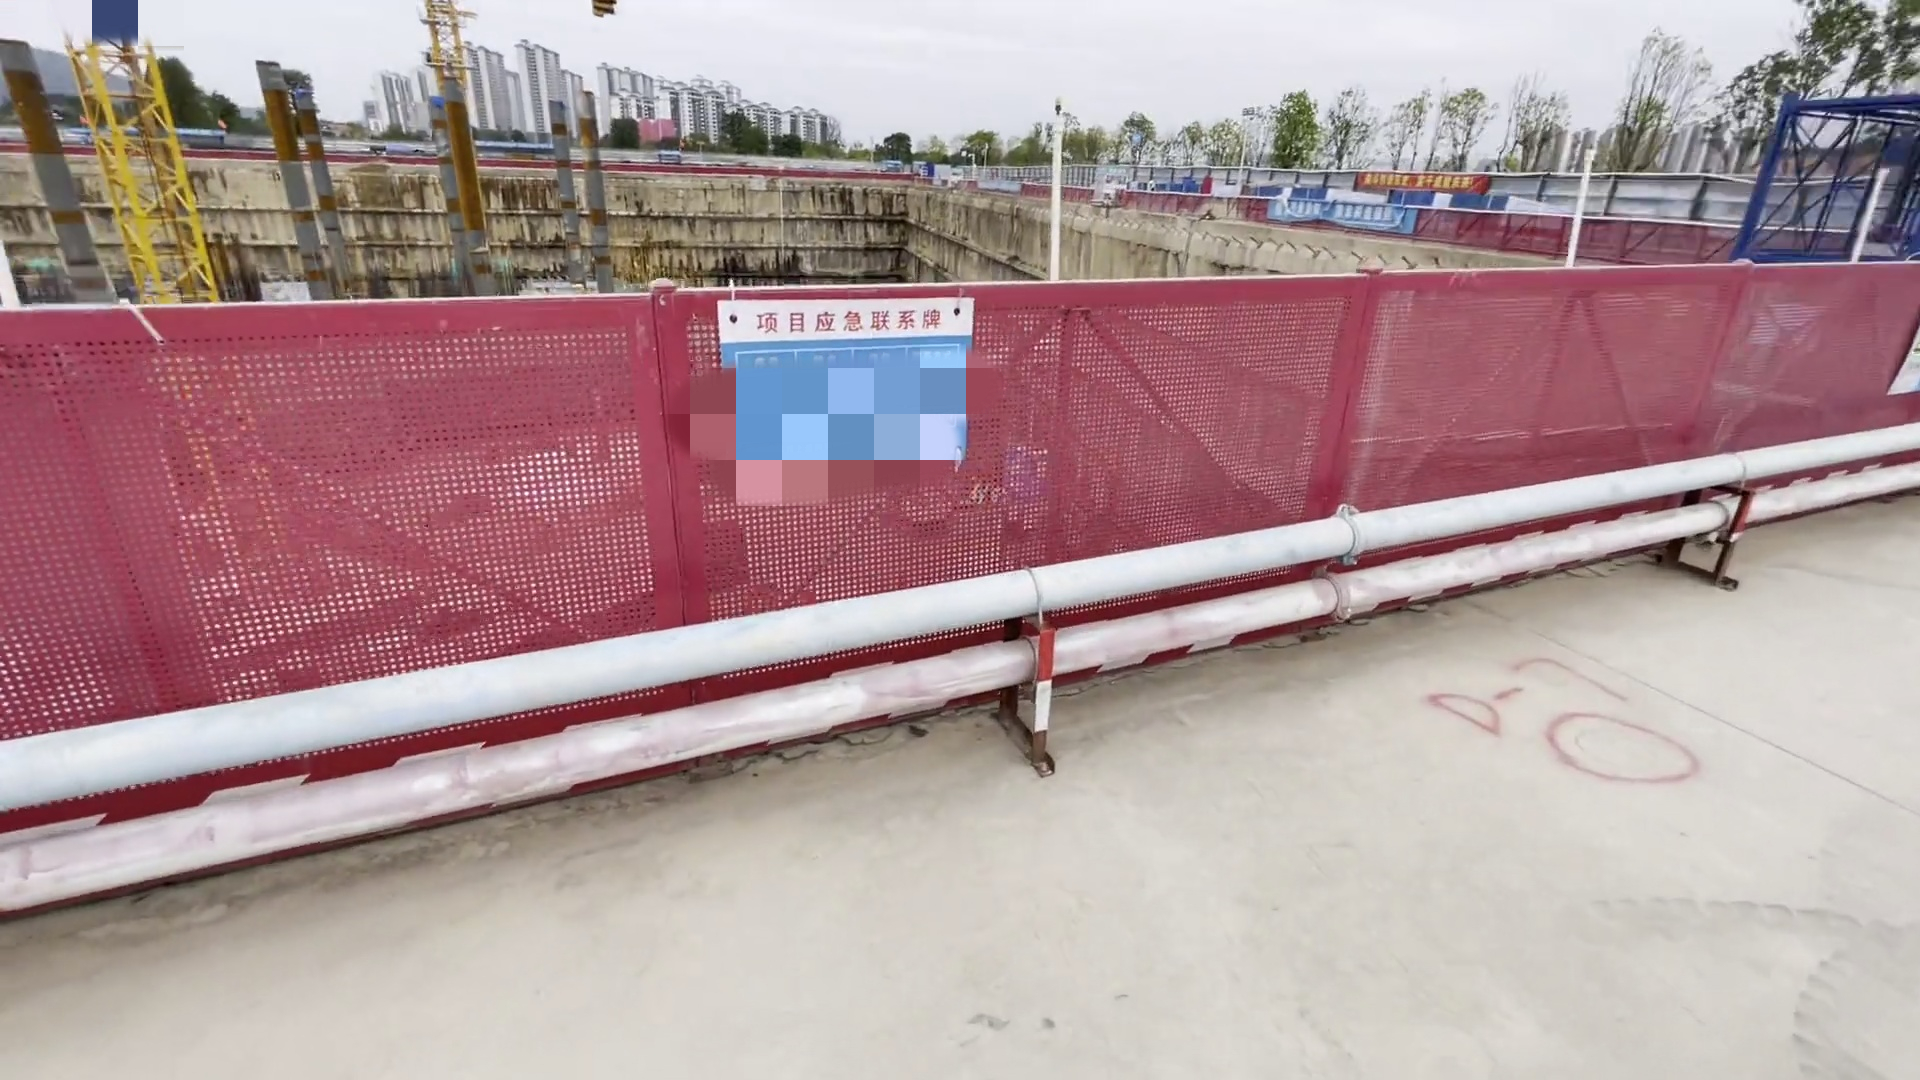fence: (1, 260, 1917, 840)
slogan: (1280, 203, 1414, 233), (1350, 169, 1485, 193)
